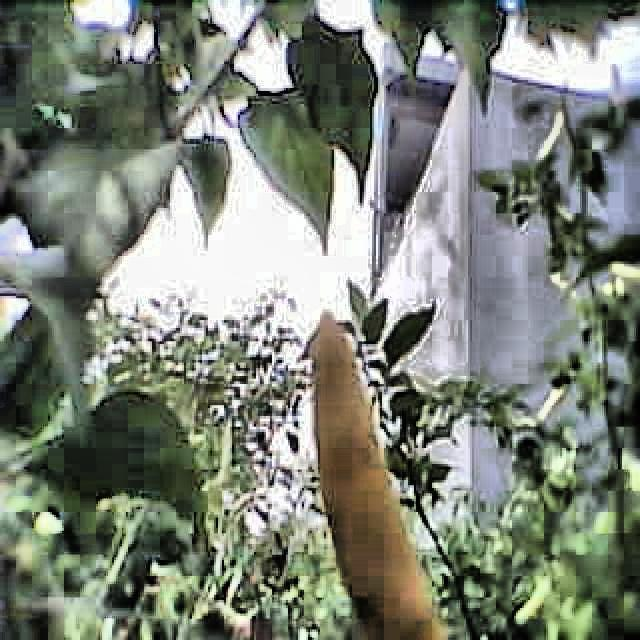Cabai: (296, 305, 436, 639)
